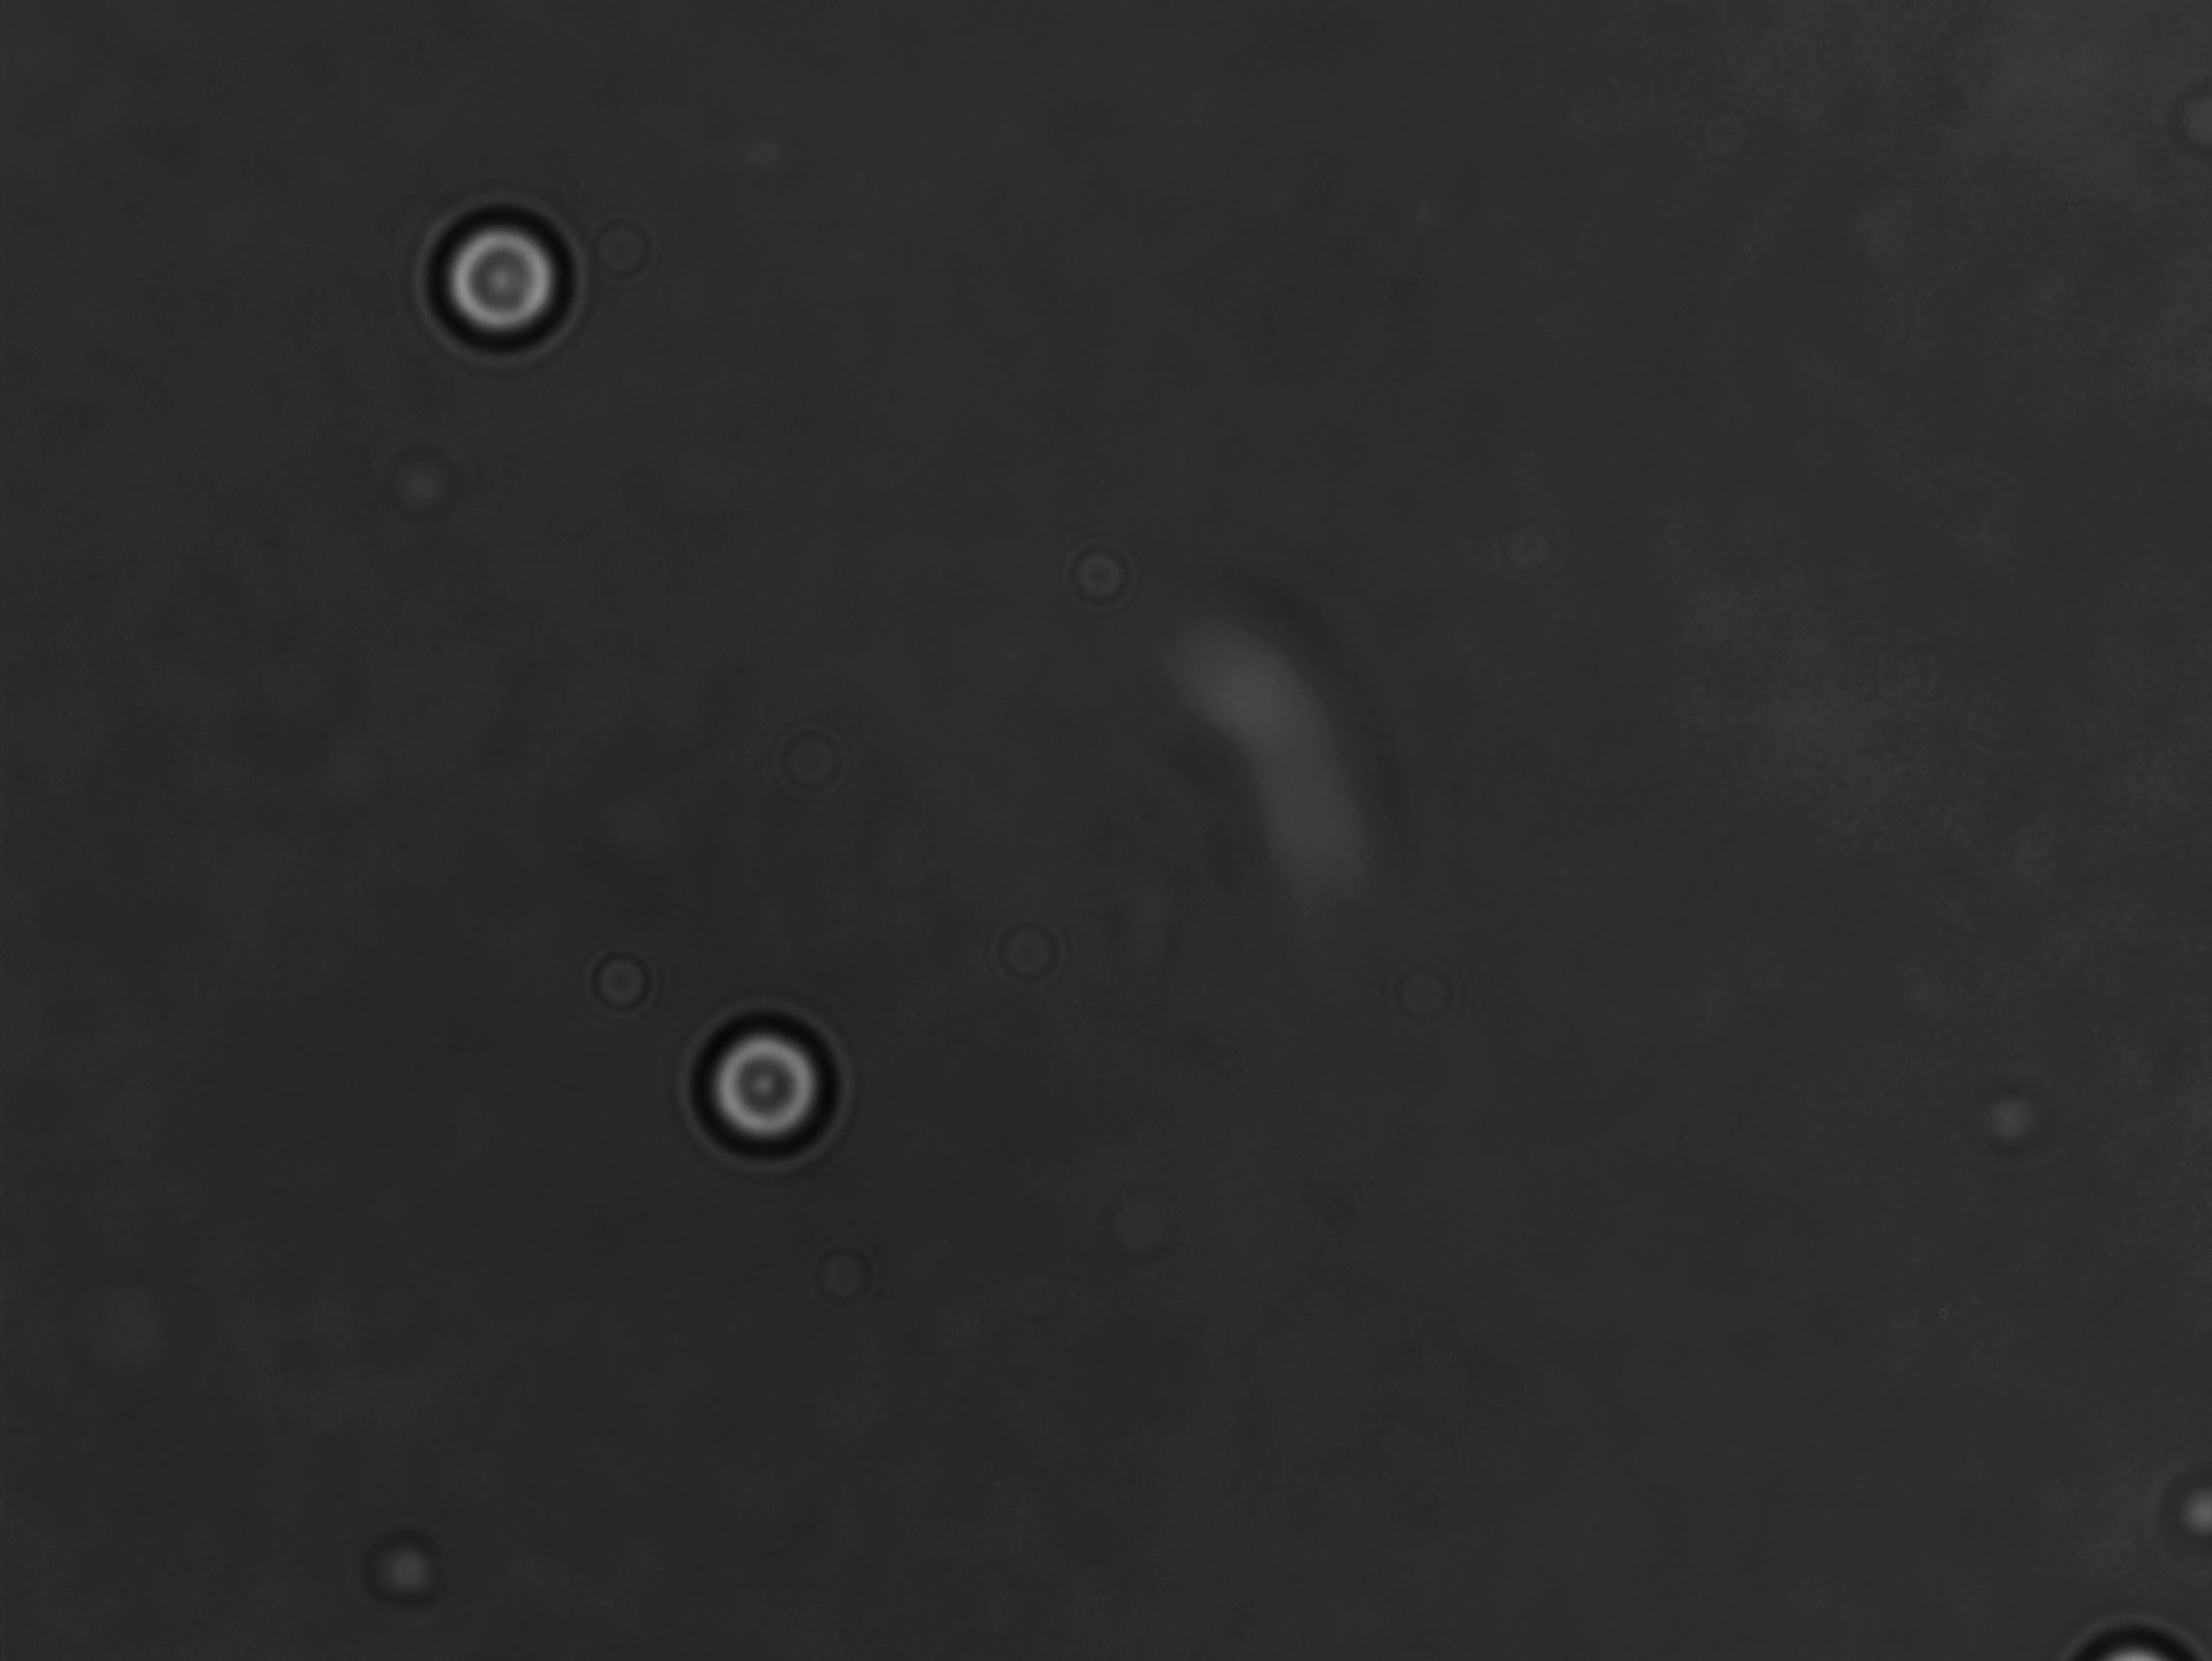depth:20: (675, 1005, 850, 1181), (405, 197, 584, 366)
